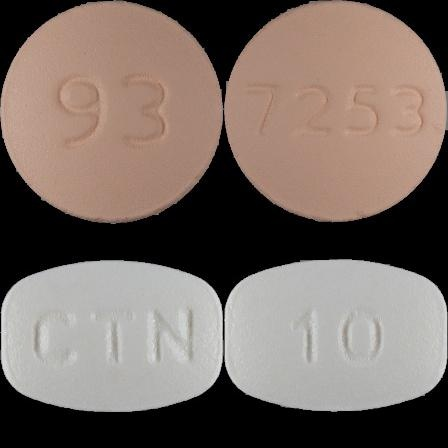61919-536: (0, 0, 224, 224)
